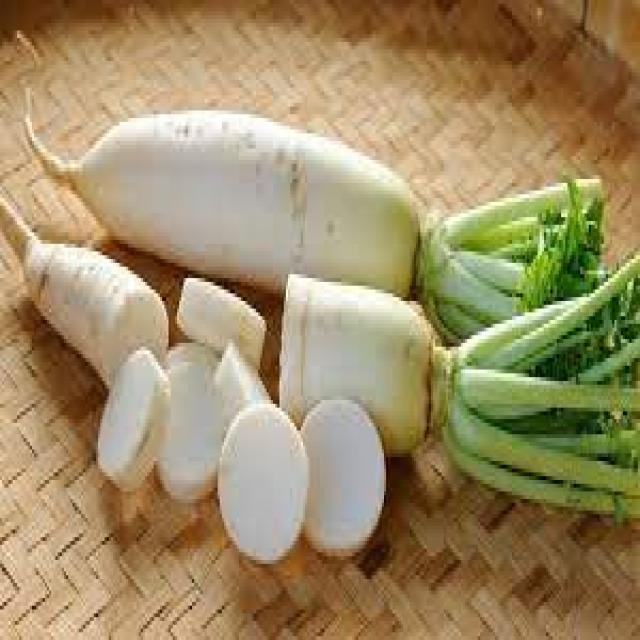raddish: (25, 101, 420, 295)
